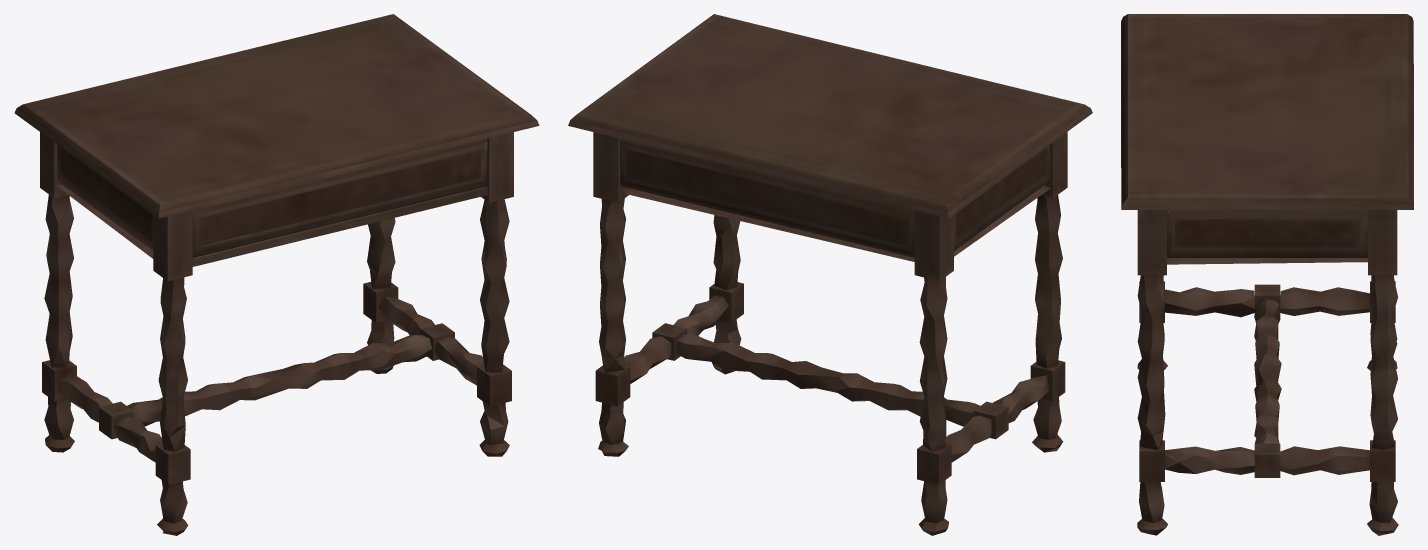
The model's file is table-side.lod1.glb.
3 views of the same model, side by side, from view 1: azimuth 30°, elevation 25°; view 2: azimuth 150°, elevation 25°; view 3: azimuth 270°, elevation 25° (orthographic).
Visible parts, largest first — view 1: table-side; view 2: table-side; view 3: table-side.
Boxes of the visible parts, x1=… form: table-side: x1=14, y1=14, x2=539, y2=535; table-side: x1=568, y1=14, x2=1092, y2=535; table-side: x1=1121, y1=14, x2=1413, y2=535.
Size of the model in its own units: 0.7784 by 0.6661 by 0.5112.
1 material, 1 textured.
